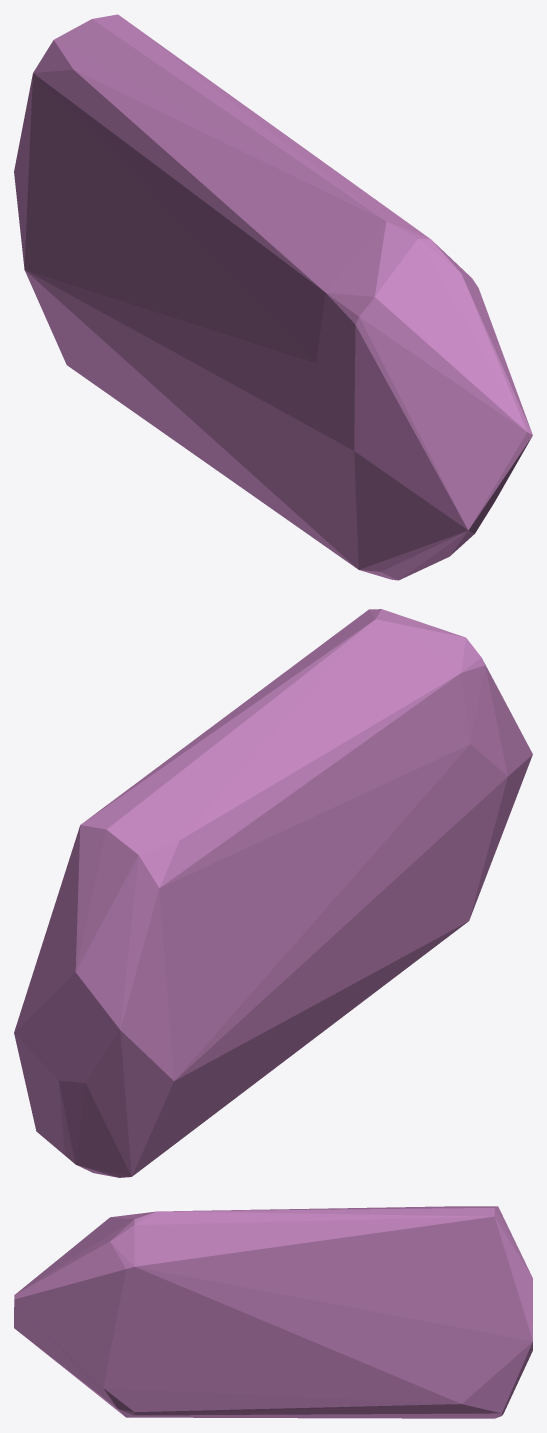
File: food_beverage_whiskyBottle_c01.glb
The picture shows the model from 3 angles, top to bottom: view 1: azimuth 30°, elevation 25°; view 2: azimuth 150°, elevation 25°; view 3: azimuth 270°, elevation 25°; orthographic projection. The views are drawn at different scales.
Parts seen in each view (by area): view 1: geometry_0; view 2: geometry_0; view 3: geometry_0.
Boxes of the visible parts, <box> form: geometry_0: <box>14,14,532,580</box>; geometry_0: <box>14,609,532,1177</box>; geometry_0: <box>14,1206,532,1418</box>.
Bounding box in the file's own units: 0.0961 × 0.2116 × 0.4799.
